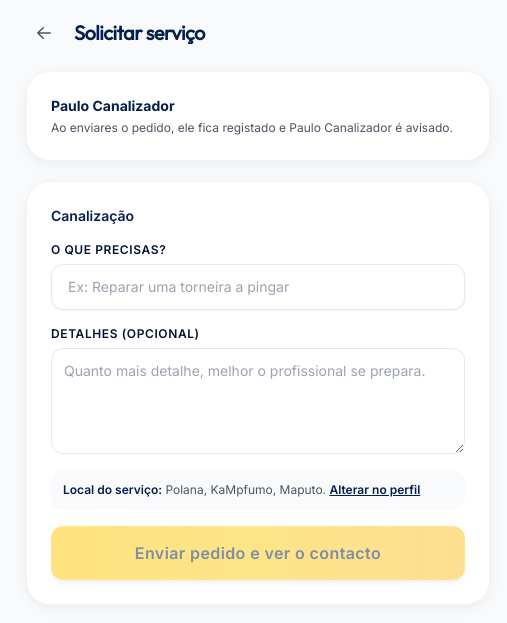
Test: SolicitarServico — depois de enviar › só então mostra o telefone, pronto a ligar, e o que fazer a seguir
Type "Torneira a pingar" into the field labelled "O que precisas?" at x=258, y=287, box [51,264,465,310]
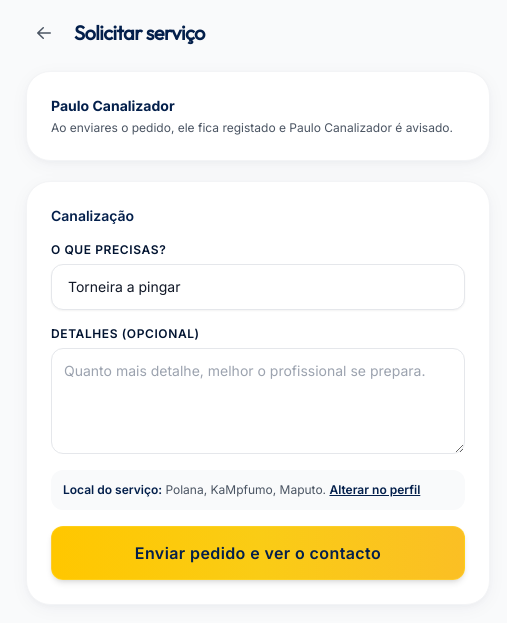
Click the button "Enviar pedido e ver o contacto" at x=258, y=553, box [51,526,465,580]
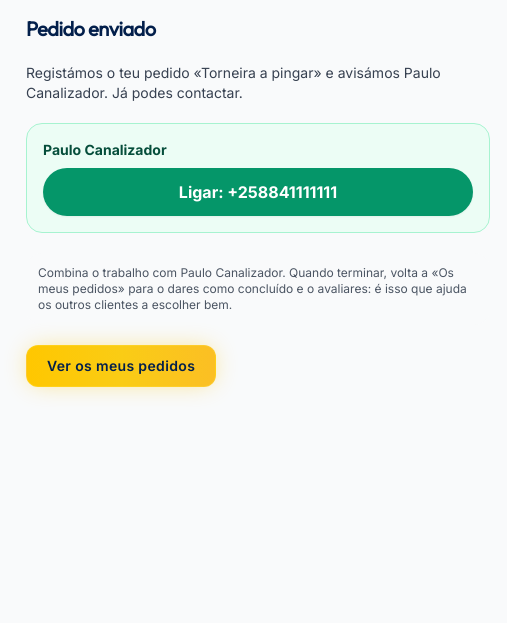
Expected: the heading "Pedido enviado" is shown, [26,16,156,41]
Expected: the text "dares como concluído e o avaliares" is shown, [38,265,467,312]
